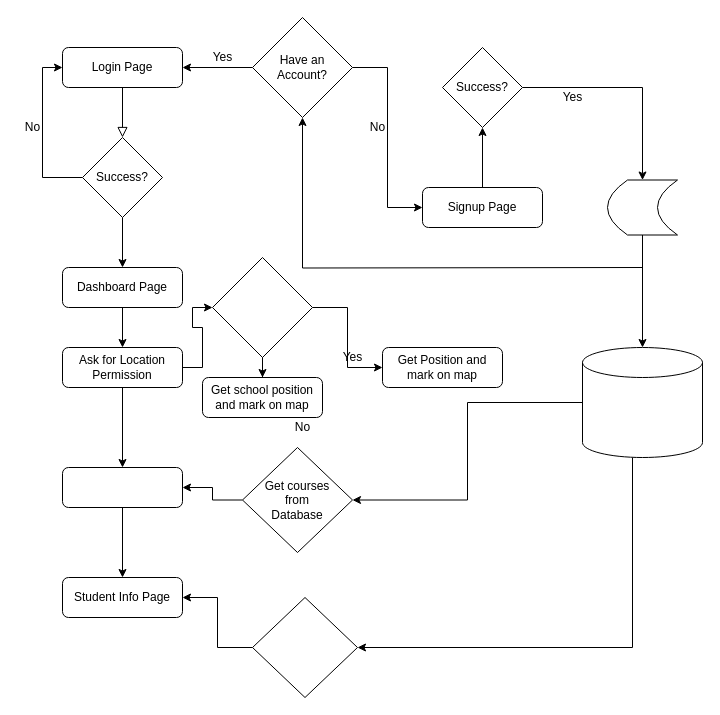
Some shapes in this 720 by 715 pixel diagram are drawn without their labels. The centre of each missing label's shape, as x and y in pixels:
"Courses Page" belongs at (x=122, y=487).
"Database (MongoDB)" belongs at (x=642, y=402).
"Get student info from Database" belongs at (x=305, y=647).
"Permission Granted?" belongs at (x=262, y=307).
"Store Data" belongs at (x=642, y=207).
